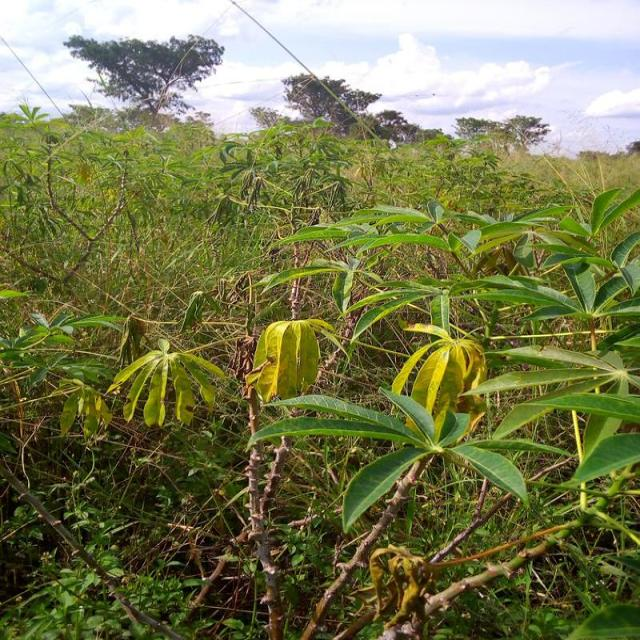cassava leaf: (406, 337, 487, 445), (244, 318, 320, 403)
